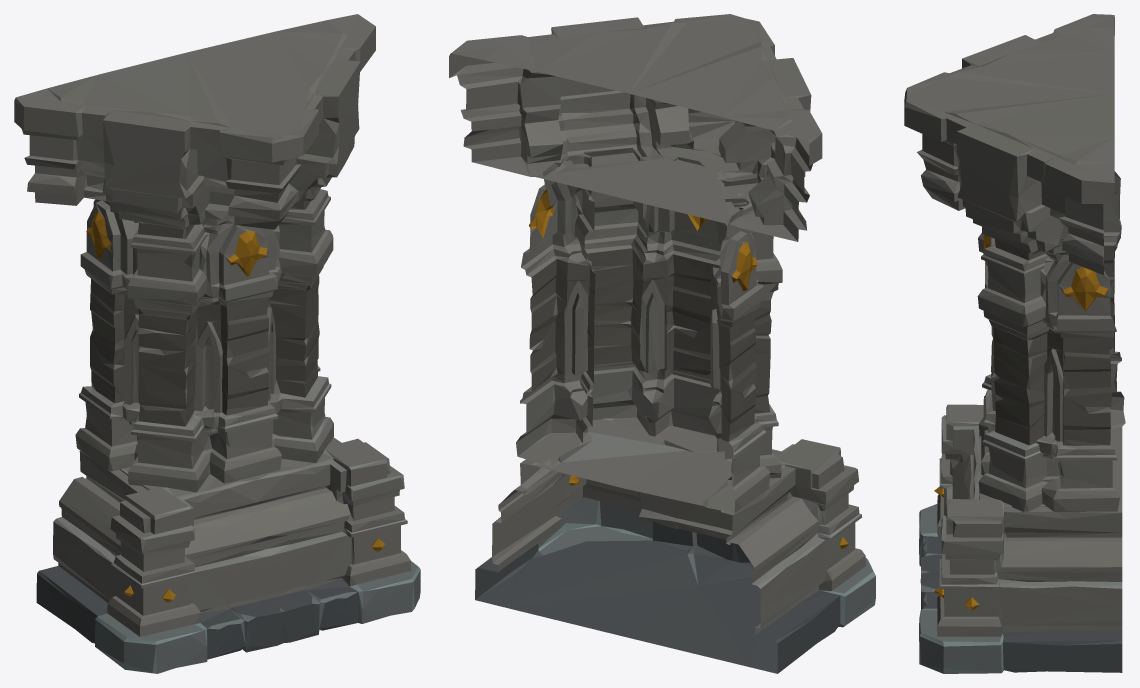
The model's file is MDungeons_PillarShort_Med_Half_01.FBX.
The picture shows the model from 3 angles, left to right: view 1: azimuth 30°, elevation 25°; view 2: azimuth 150°, elevation 25°; view 3: azimuth 270°, elevation 25°; orthographic projection. The views are drawn at different scales.
Parts seen in each view (by area): view 1: MDungeons_PillarShort_Med_Half_01_LOD0; view 2: MDungeons_PillarShort_Med_Half_01_LOD0; view 3: MDungeons_PillarShort_Med_Half_01_LOD0.
Part boxes in pixels (x1=…): MDungeons_PillarShort_Med_Half_01_LOD0: x1=14, y1=14, x2=420, y2=673; MDungeons_PillarShort_Med_Half_01_LOD0: x1=449, y1=14, x2=875, y2=673; MDungeons_PillarShort_Med_Half_01_LOD0: x1=904, y1=14, x2=1125, y2=673.
Size of what is drawn, in the model's own units: 7.16 by 10.26 by 4.02.
